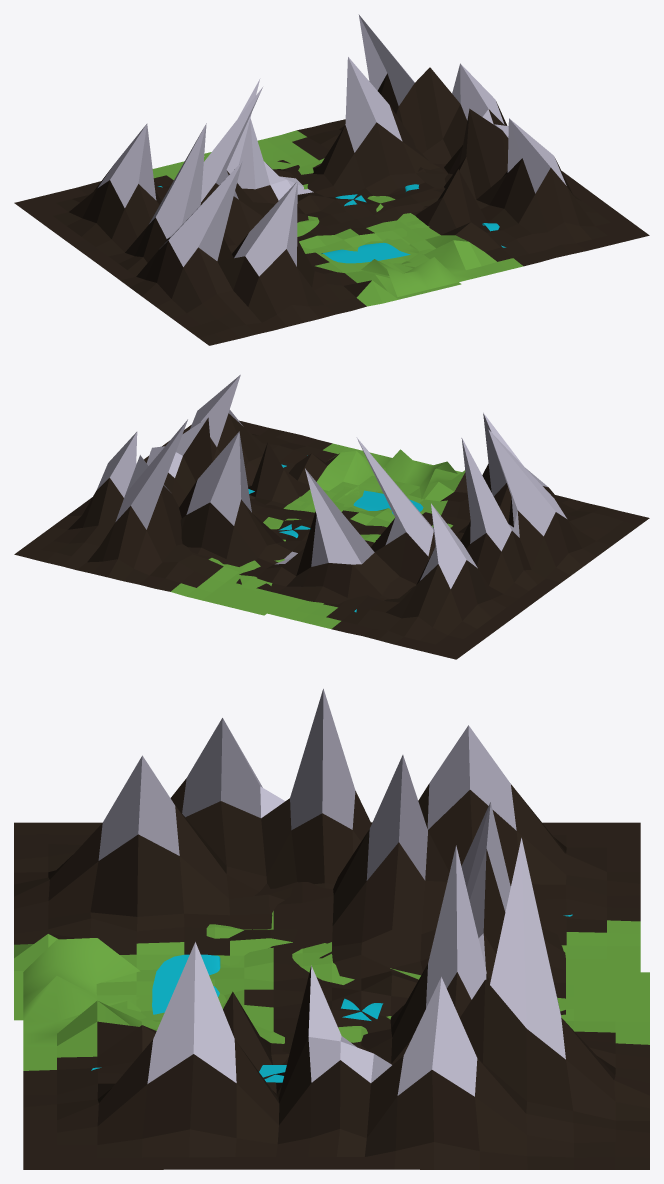
The model's file is MountValley3.obj.
3 views of the same model, one above another, from view 1: azimuth 30°, elevation 25°; view 2: azimuth 150°, elevation 25°; view 3: azimuth 270°, elevation 25° (orthographic). The views are drawn at different scales.
Visible parts, largest first — view 1: Sahne_Plane; view 2: Sahne_Plane; view 3: Sahne_Plane.
Part boxes in pixels (<box>): Sahne_Plane: <box>14,14,649,345</box>; Sahne_Plane: <box>14,374,649,659</box>; Sahne_Plane: <box>14,688,649,1169</box>.
Size of the model in its own units: 27.86 by 8.83 by 21.57.
